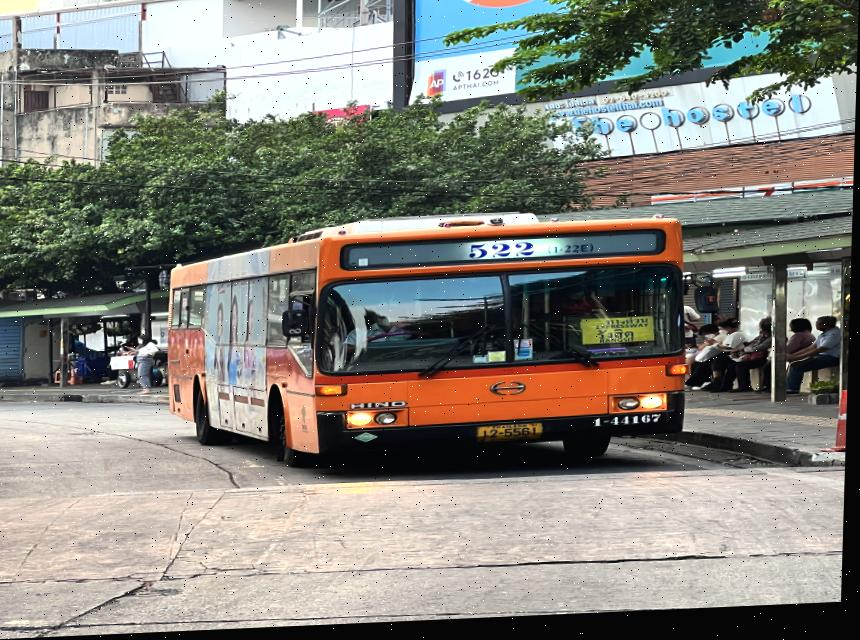BMTA-bus: (164, 220, 692, 470)
Bus Line Number: (454, 240, 600, 268)
Bus Side Number: (588, 418, 673, 434)
Destination Sign: (579, 323, 658, 350)
